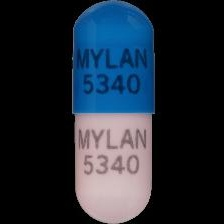0378-5340: (0, 0, 224, 224)
